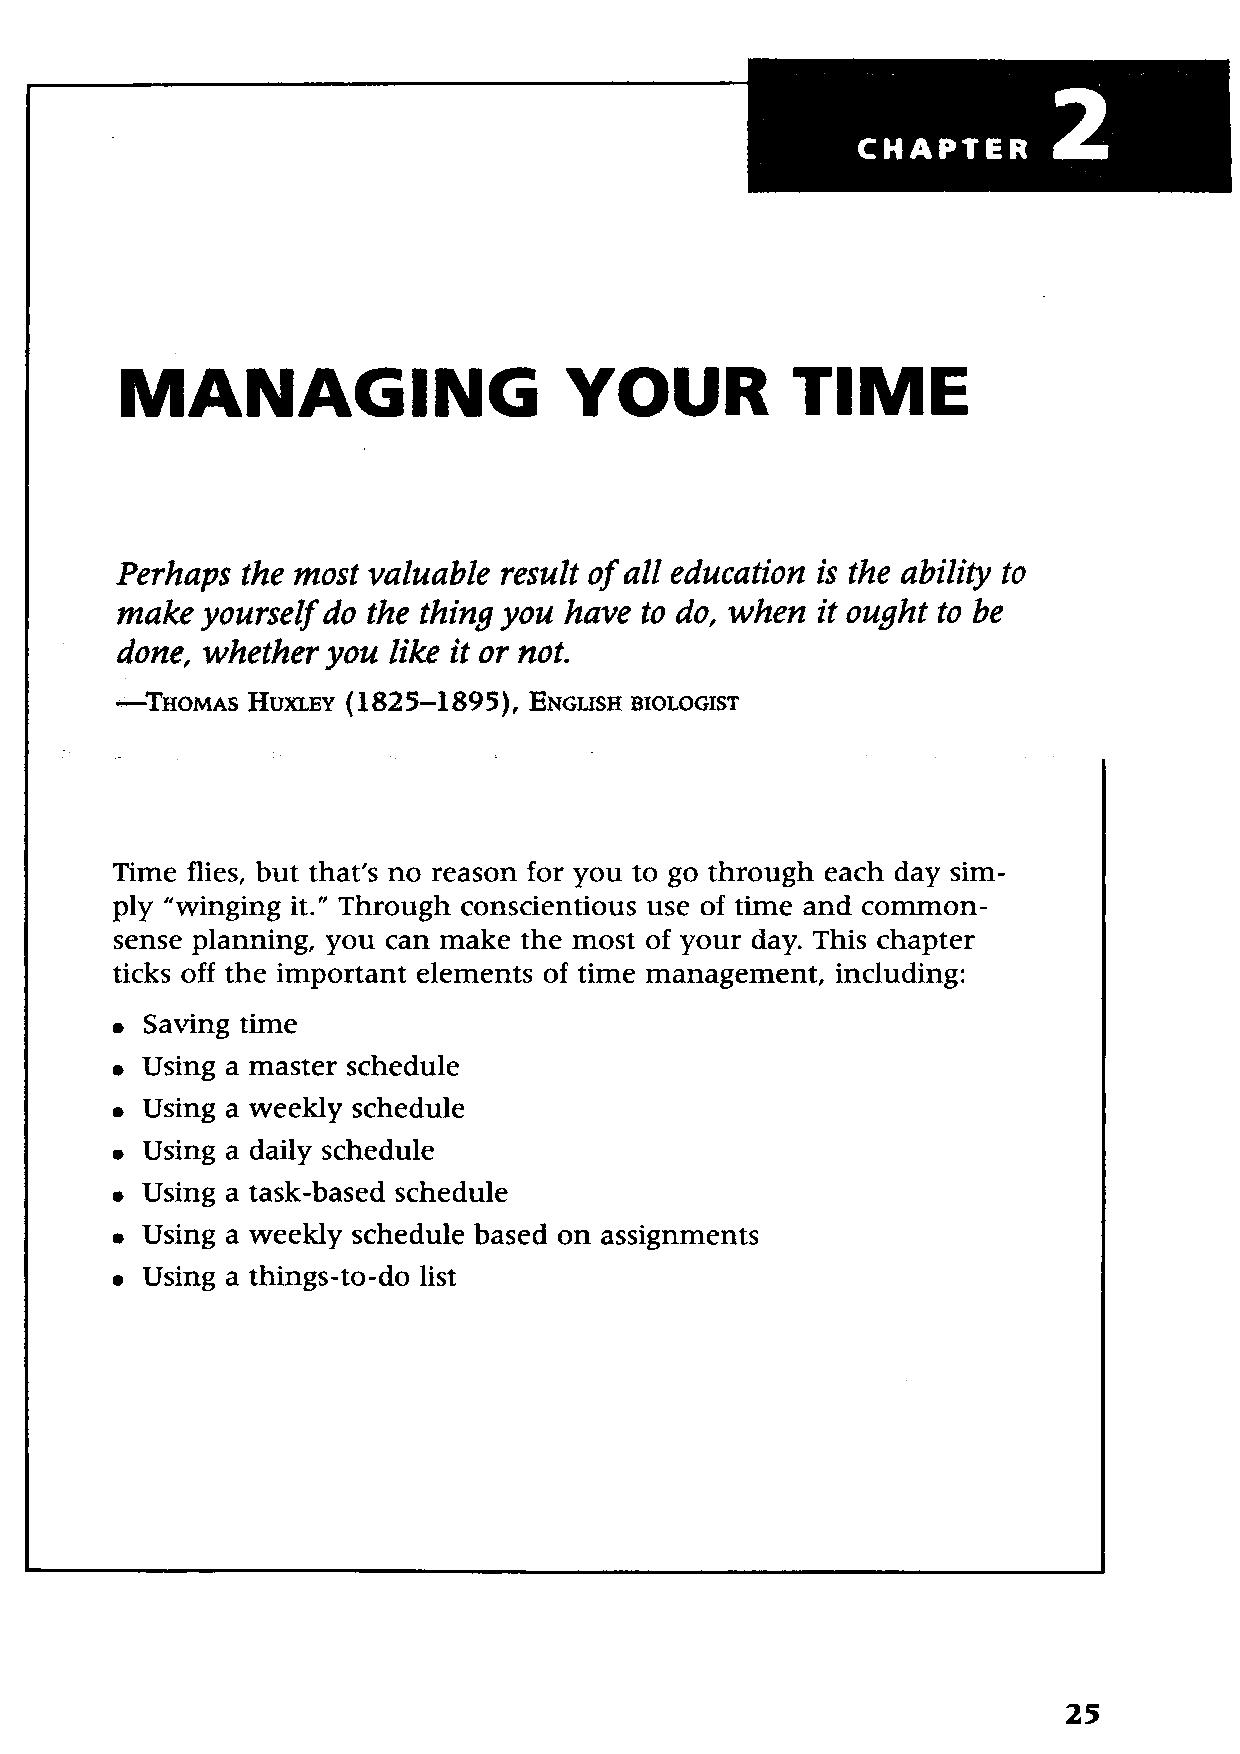chapter: (115, 362, 970, 419)
content: (107, 557, 1027, 1306)
